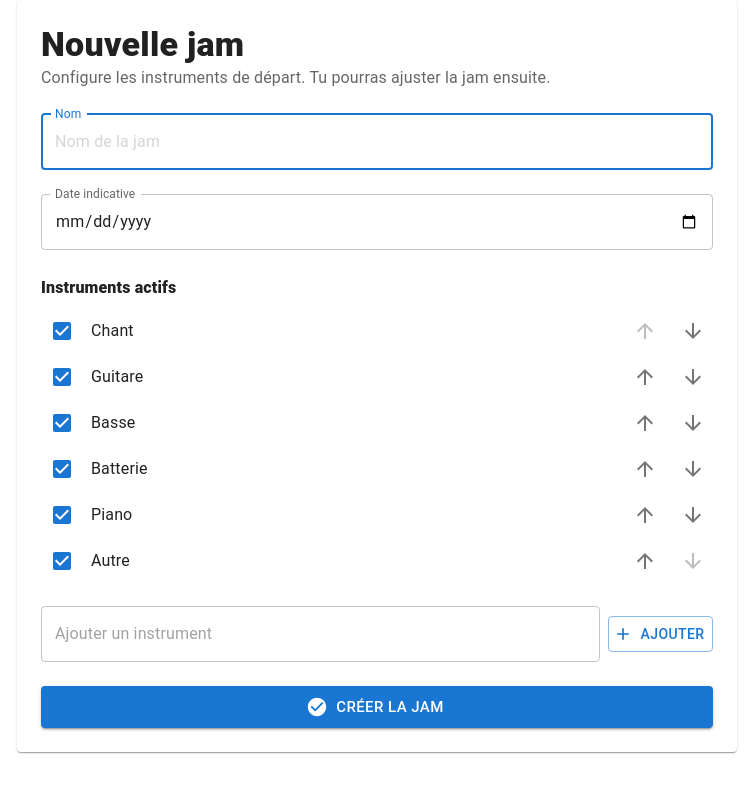
Scenario: jam pages › adds a custom instrument inline
This screenshot has width=755, height=810.
In the field with placeholder "Ajouter un instrument": [320, 634] box x1=41 y1=606 x2=600 y2=662, type "Saxophone"
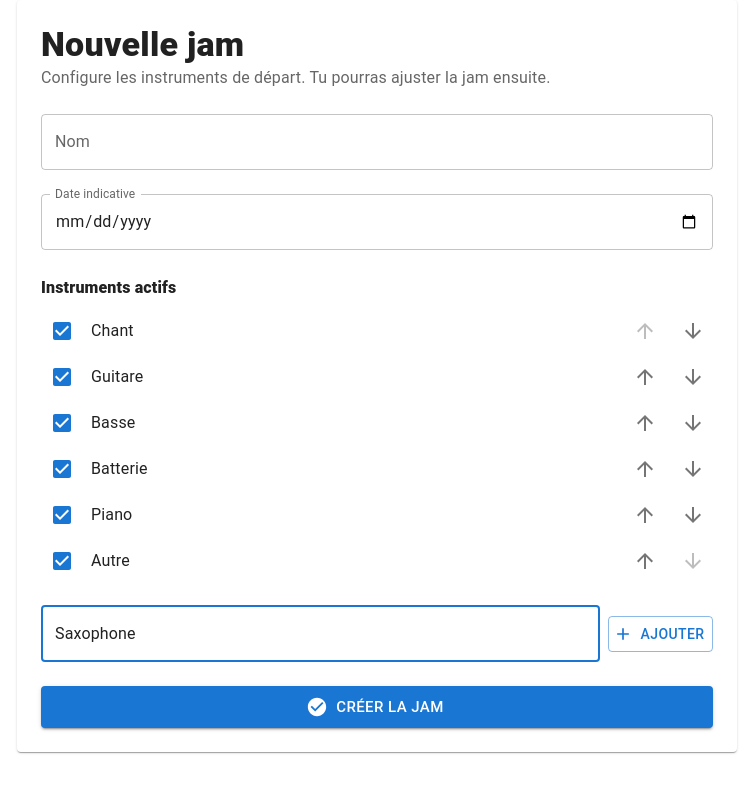
Click the button "Ajouter": [660, 634] box x1=608 y1=616 x2=713 y2=652
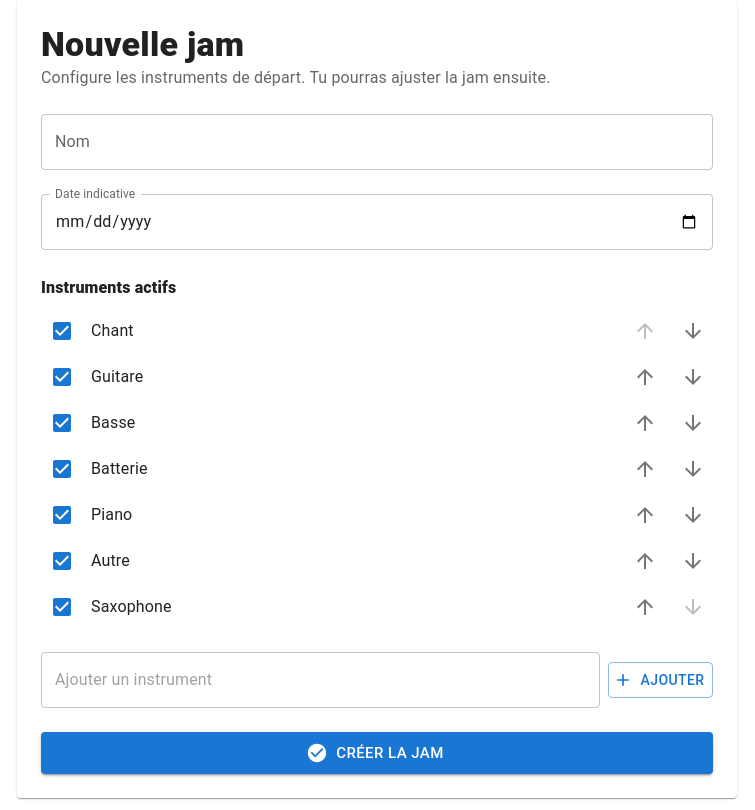
Expected: the text "Saxophone" is shown, x1=91 y1=597 x2=172 y2=616
